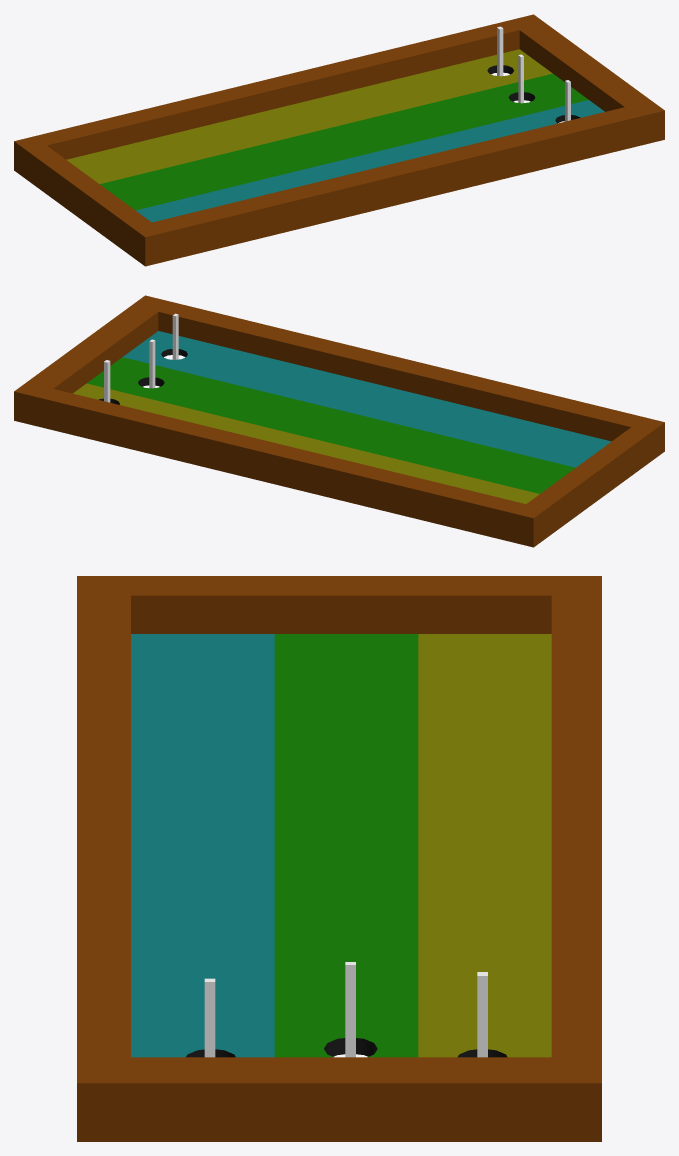
The model's file is trainingElement1.dae.
The picture shows the model from 3 angles, top to bottom: view 1: azimuth 30°, elevation 25°; view 2: azimuth 150°, elevation 25°; view 3: azimuth 270°, elevation 25°; orthographic projection. The views are drawn at different scales.
Visible parts, largest first — view 1: SketchUp (×4); view 2: SketchUp (×4); view 3: SketchUp (×7).
Boxes of the visible parts, x1,y1,x2,y2 form: SketchUp (×4): (14,14,664,266); SketchUp (×4): (14,295,664,547); SketchUp (×7): (77,576,601,1141).
Size of the model in its own units: 315 by 138 by 30.71.
